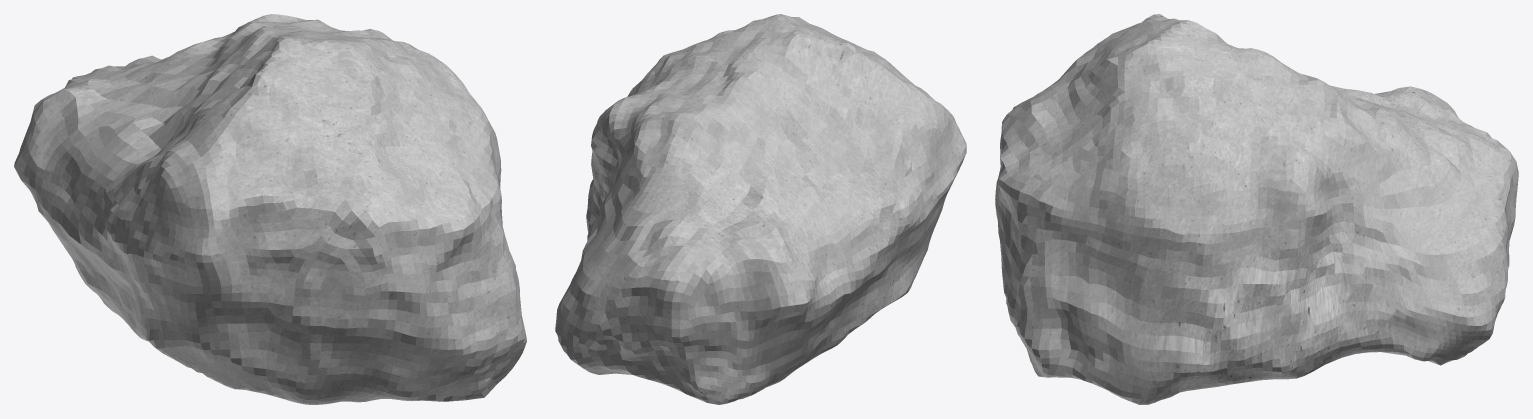
The model's file is rock3.fbx.
3 renders of one model, left to right at view 1: azimuth 30°, elevation 25°; view 2: azimuth 150°, elevation 25°; view 3: azimuth 270°, elevation 25°, orthographic. The views are drawn at different scales.
Parts seen in each view (by area): view 1: rock2_LOW:ZBrush_defualt_group; view 2: rock2_LOW:ZBrush_defualt_group; view 3: rock2_LOW:ZBrush_defualt_group.
Part boxes in pixels (x1,y1,x2,y2): rock2_LOW:ZBrush_defualt_group: (14,14,526,404); rock2_LOW:ZBrush_defualt_group: (555,14,966,404); rock2_LOW:ZBrush_defualt_group: (995,14,1518,404).
Bounding box in the file's own units: 2.89 × 2.44 × 3.79.
1 material, 1 textured.
